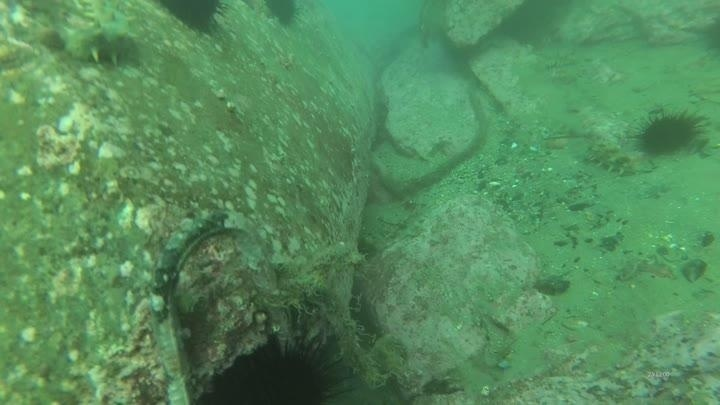echinus: (203, 331, 354, 404), (632, 105, 708, 160), (156, 0, 229, 35), (261, 0, 302, 28)
holothurian: (59, 14, 146, 69), (584, 138, 650, 178)
